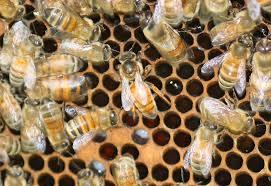Queen-Bee: (115, 50, 168, 121)
worker-bee: (136, 6, 199, 63), (197, 94, 258, 136), (34, 94, 73, 154), (221, 27, 252, 100), (42, 3, 101, 40), (185, 116, 221, 176), (61, 112, 126, 140), (11, 29, 40, 91), (29, 76, 93, 104), (250, 30, 271, 114), (32, 51, 88, 75), (56, 40, 116, 60), (116, 153, 139, 186)
